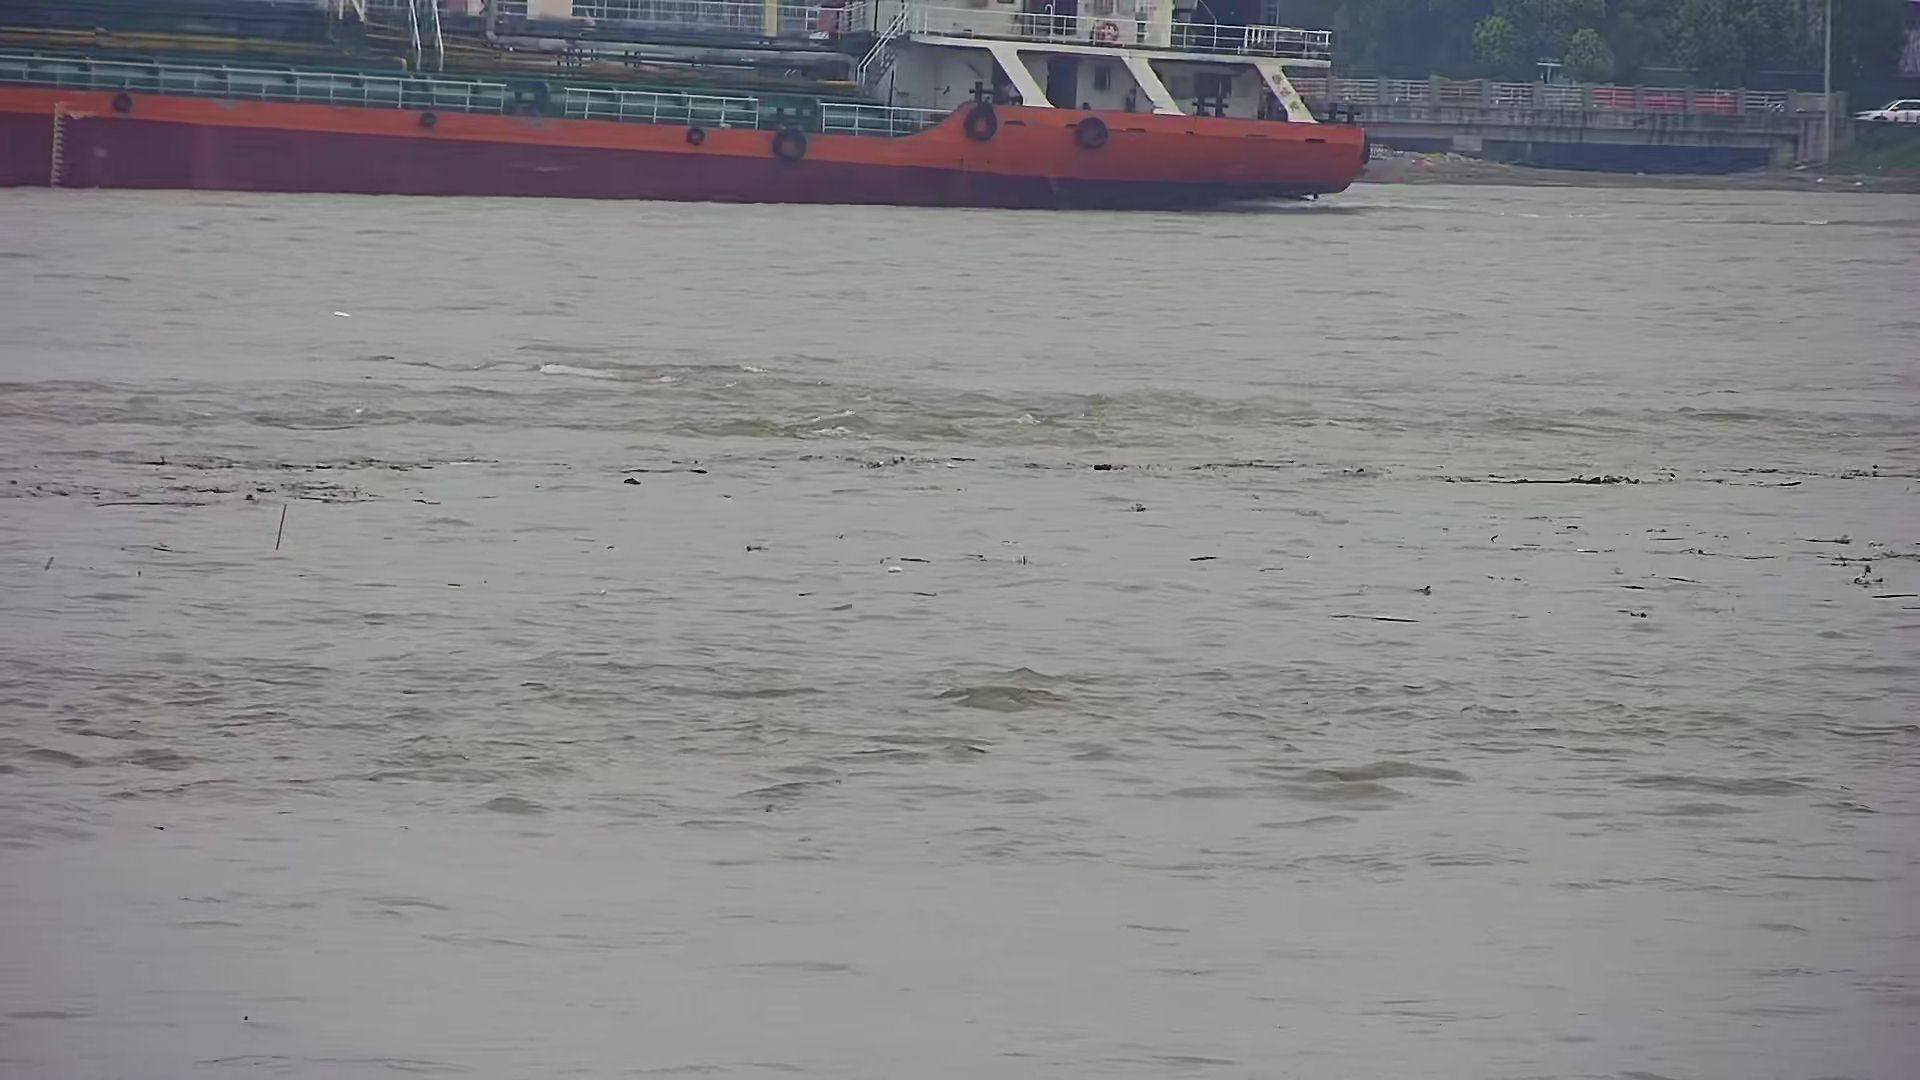ship: (4, 3, 1374, 220)
